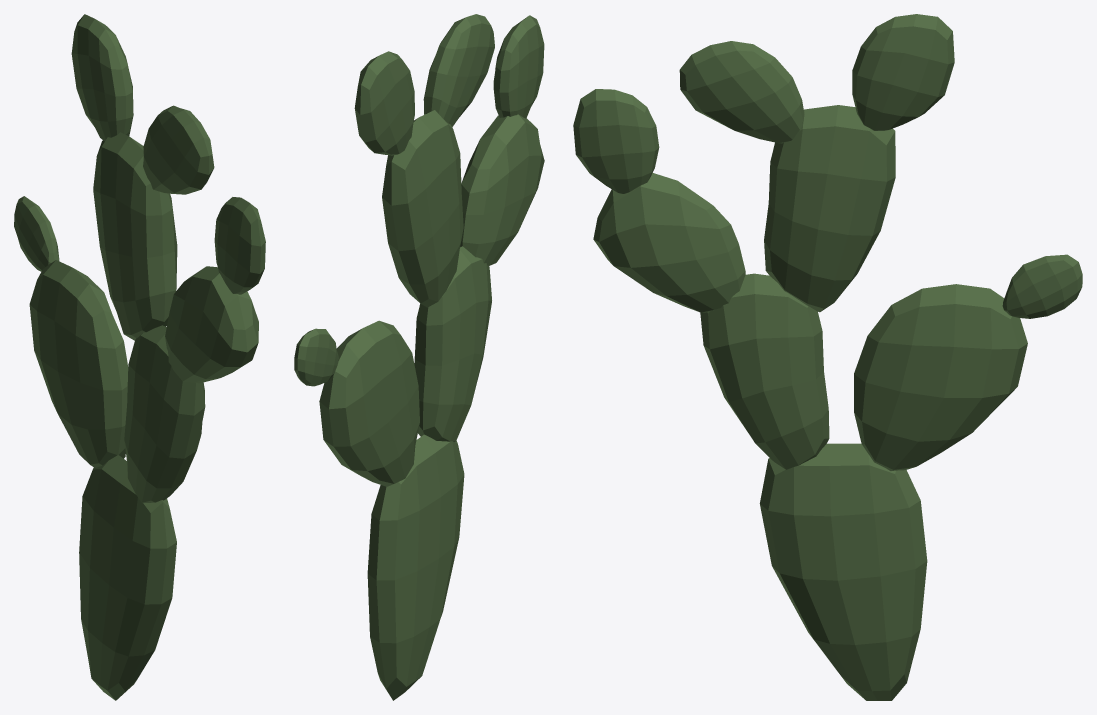
File: Cactus_4.glb
The picture shows the model from 3 angles, left to right: view 1: azimuth 30°, elevation 25°; view 2: azimuth 150°, elevation 25°; view 3: azimuth 270°, elevation 25°; orthographic projection. The views are drawn at different scales.
Visible parts, largest first — view 1: Cactus_4; view 2: Cactus_4; view 3: Cactus_4.
Part boxes in pixels (left/top/right/bottom): Cactus_4: left=14, top=14, right=265, bottom=700; Cactus_4: left=294, top=14, right=544, bottom=700; Cactus_4: left=573, top=14, right=1082, bottom=700.
Size of the model in its own units: 0.11 by 1.37 by 0.919.
